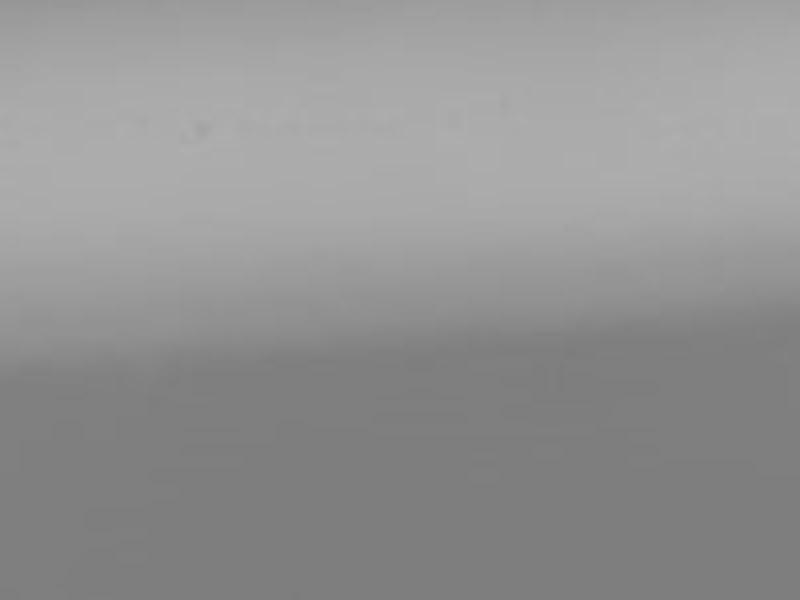defect: (182, 115, 213, 151)
